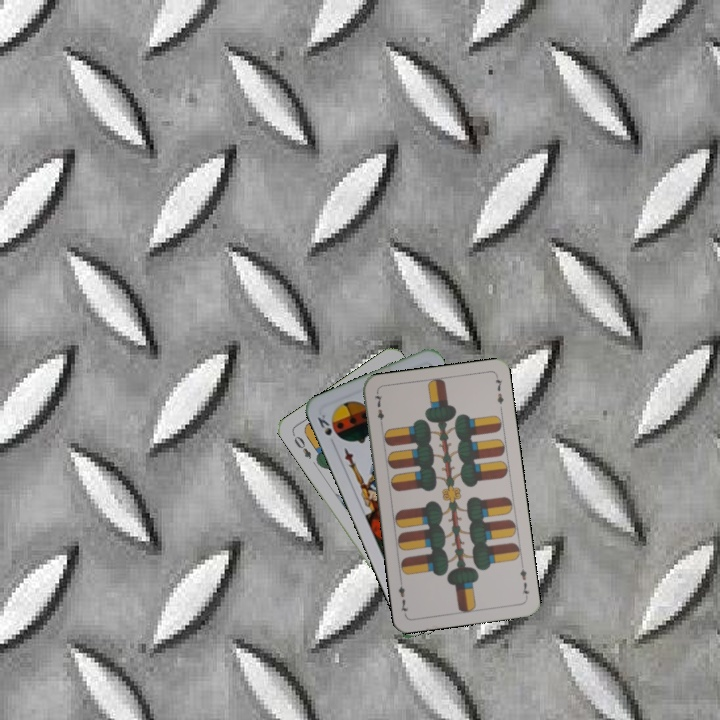E7: (370, 389, 386, 430), (516, 560, 532, 601)
EO: (288, 430, 314, 461)
SK: (313, 410, 338, 448)
